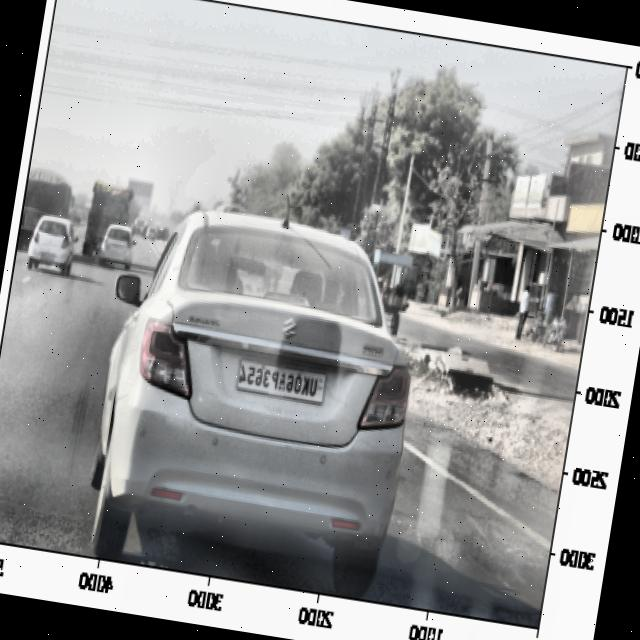license_plate: (233, 361, 324, 402)
